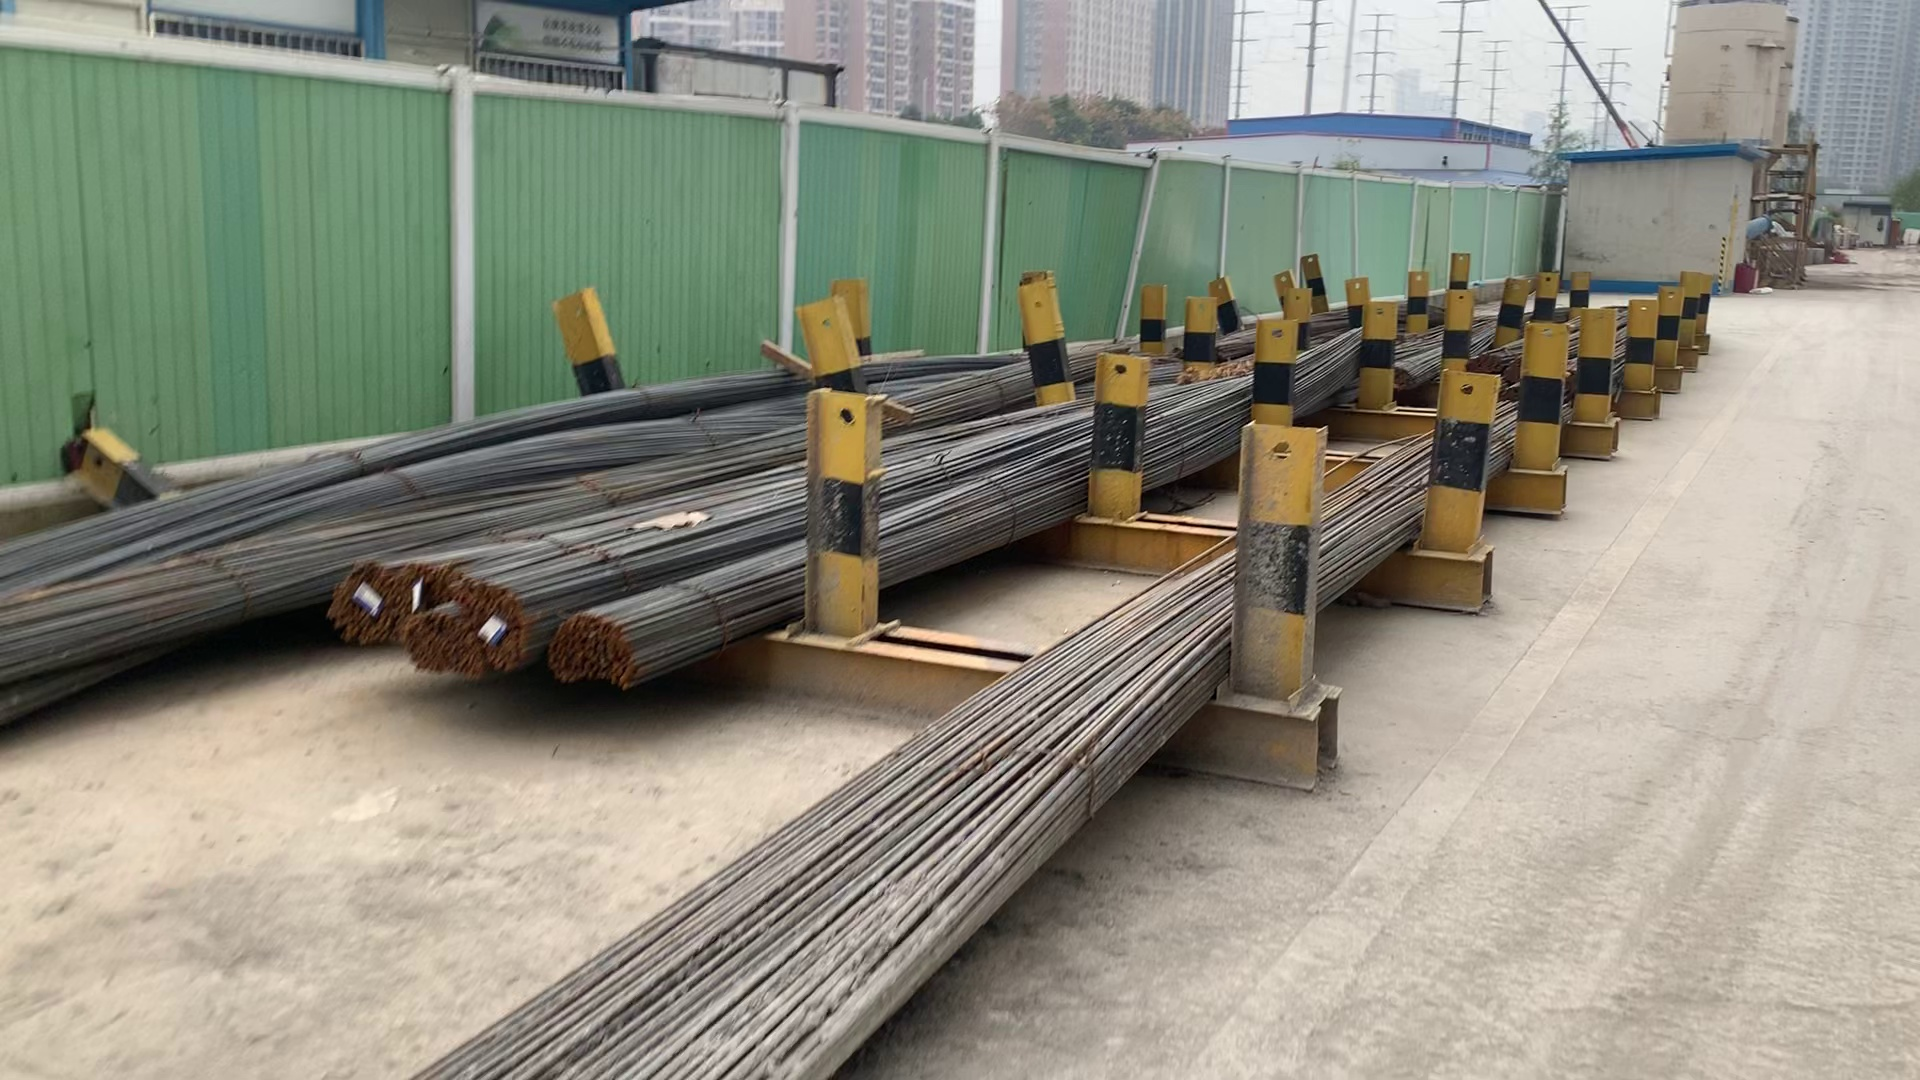rebar: (538, 612, 644, 687), (467, 576, 541, 676), (326, 564, 400, 633), (406, 615, 480, 673), (407, 560, 465, 607)
